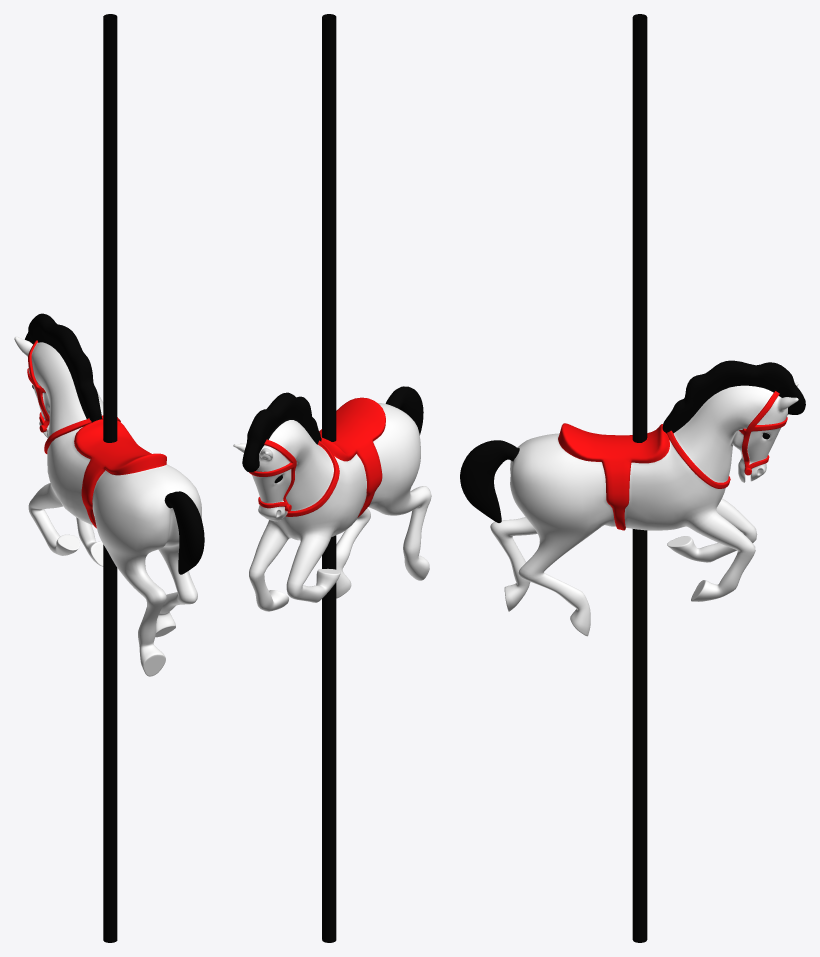
File: carrossel_cavalo.obj
3 views of the same model, side by side, from view 1: azimuth 30°, elevation 25°; view 2: azimuth 150°, elevation 25°; view 3: azimuth 270°, elevation 25° (orthographic).
Visible parts, largest first — view 1: 16818_carousel_v1.002_16818_carousel_v1.003, 16818_carousel_v1.000_16818_carousel_v1.000, 16818_carousel_v1.000_16818_carousel_v1.002, 16818_carousel_v1.002_16818_carousel_v1.004_16818_carousel_v1.00, 16818_carousel_v1.002_16818_carousel_v1.000, 16818_carousel_v1.002_16818_carousel_v1.005_16818_carousel_v1.00; view 2: 16818_carousel_v1.002_16818_carousel_v1.003, 16818_carousel_v1.000_16818_carousel_v1.000, 16818_carousel_v1.000_16818_carousel_v1.002, 16818_carousel_v1.002_16818_carousel_v1.004_16818_carousel_v1.00, 16818_carousel_v1.002_16818_carousel_v1.000, 16818_carousel_v1.002_16818_carousel_v1.005_16818_carousel_v1.00, 16818_carousel_v1.002_16818_carousel_v1.001; view 3: 16818_carousel_v1.002_16818_carousel_v1.003, 16818_carousel_v1.000_16818_carousel_v1.000, 16818_carousel_v1.002_16818_carousel_v1.004_16818_carousel_v1.00, 16818_carousel_v1.000_16818_carousel_v1.002, 16818_carousel_v1.002_16818_carousel_v1.000, 16818_carousel_v1.002_16818_carousel_v1.005_16818_carousel_v1.00.
Boxes of the visible parts, left/top/right/bottom form: 16818_carousel_v1.002_16818_carousel_v1.003: left=14, top=336, right=201, bottom=676; 16818_carousel_v1.000_16818_carousel_v1.000: left=103, top=14, right=117, bottom=442; 16818_carousel_v1.000_16818_carousel_v1.002: left=103, top=544, right=117, bottom=942; 16818_carousel_v1.002_16818_carousel_v1.004_16818_carousel_v1.00: left=25, top=313, right=204, bottom=574; 16818_carousel_v1.002_16818_carousel_v1.000: left=74, top=419, right=166, bottom=528; 16818_carousel_v1.002_16818_carousel_v1.005_16818_carousel_v1.00: left=27, top=340, right=49, bottom=432; 16818_carousel_v1.002_16818_carousel_v1.003: left=233, top=403, right=431, bottom=611; 16818_carousel_v1.000_16818_carousel_v1.000: left=322, top=14, right=336, bottom=441; 16818_carousel_v1.000_16818_carousel_v1.002: left=322, top=535, right=336, bottom=942; 16818_carousel_v1.002_16818_carousel_v1.004_16818_carousel_v1.00: left=242, top=386, right=423, bottom=483; 16818_carousel_v1.002_16818_carousel_v1.000: left=319, top=397, right=385, bottom=517; 16818_carousel_v1.002_16818_carousel_v1.005_16818_carousel_v1.00: left=249, top=439, right=296, bottom=511; 16818_carousel_v1.002_16818_carousel_v1.001: left=286, top=440, right=339, bottom=516; 16818_carousel_v1.002_16818_carousel_v1.003: left=490, top=382, right=798, bottom=636; 16818_carousel_v1.000_16818_carousel_v1.000: left=632, top=14, right=647, bottom=442; 16818_carousel_v1.002_16818_carousel_v1.004_16818_carousel_v1.00: left=460, top=360, right=805, bottom=522; 16818_carousel_v1.000_16818_carousel_v1.002: left=632, top=529, right=647, bottom=942; 16818_carousel_v1.002_16818_carousel_v1.000: left=558, top=423, right=669, bottom=530; 16818_carousel_v1.002_16818_carousel_v1.005_16818_carousel_v1.00: left=739, top=391, right=787, bottom=475.
Size of the model in its own units: 1.51 by 14.84 by 5.04.
